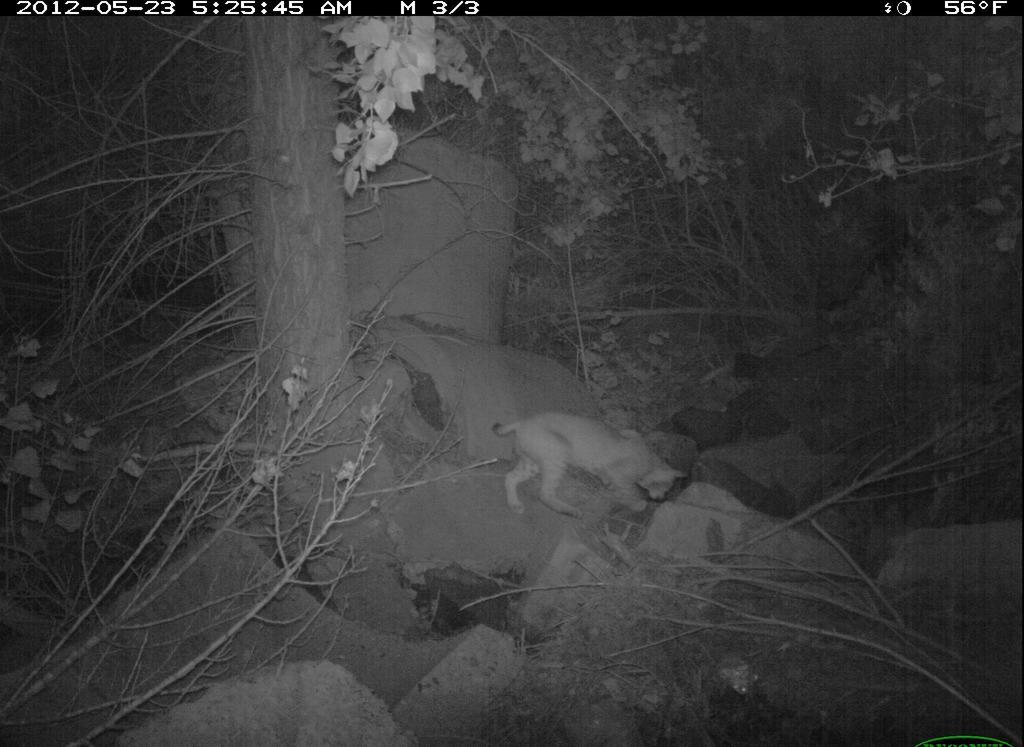bobcat: (486, 399, 693, 559)
